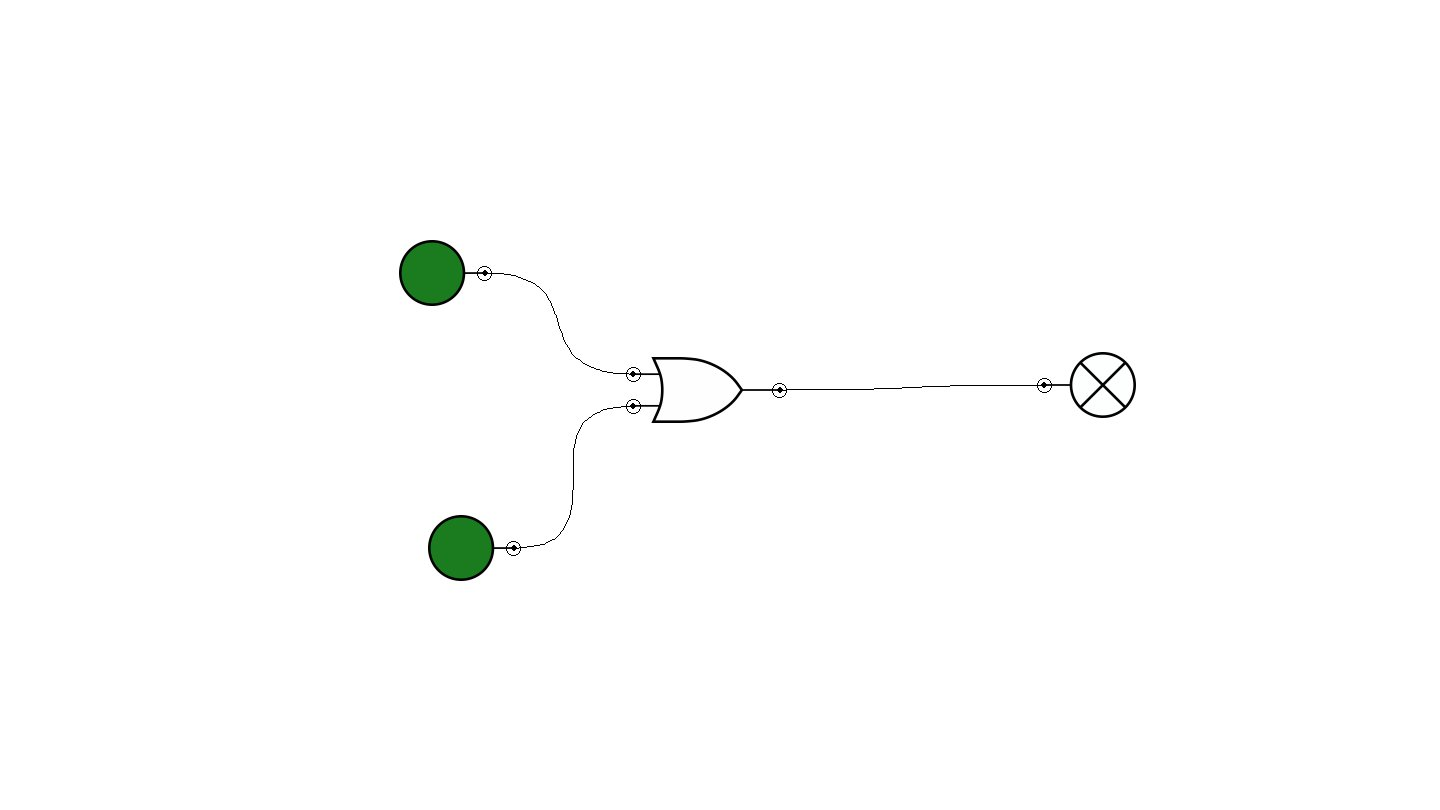bulb: (1037, 352, 1136, 418)
or: (626, 357, 787, 423)
switch_True: (428, 515, 521, 581), (399, 240, 492, 306)
